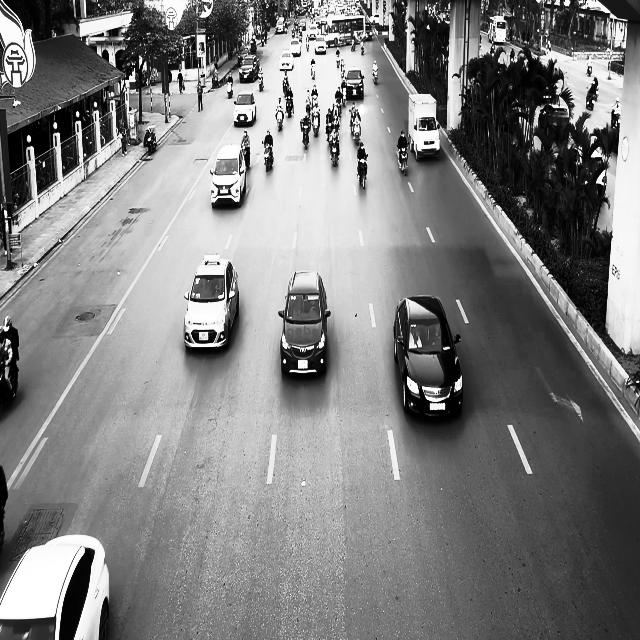bus: (321, 14, 366, 46), (488, 15, 507, 44)
car: (0, 534, 110, 640), (393, 294, 463, 418), (278, 270, 331, 375), (183, 253, 240, 350), (209, 143, 246, 208), (538, 102, 570, 142), (233, 92, 256, 126), (345, 67, 364, 99), (279, 50, 294, 70), (288, 38, 302, 56), (314, 35, 327, 54)
motorbike: (0, 359, 18, 409), (356, 154, 368, 189), (396, 145, 408, 176), (262, 140, 273, 172), (329, 134, 340, 166), (300, 117, 310, 149), (350, 115, 361, 143), (312, 108, 320, 137), (285, 95, 294, 117), (242, 145, 250, 168), (276, 109, 284, 131), (227, 80, 233, 98), (258, 74, 264, 91), (372, 68, 378, 84), (310, 64, 316, 80)
truck: (408, 92, 440, 160)
